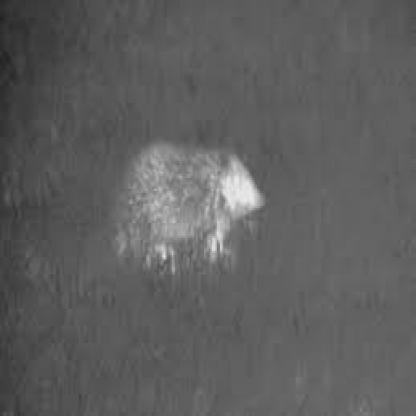rehkitze: (114, 134, 270, 280)
